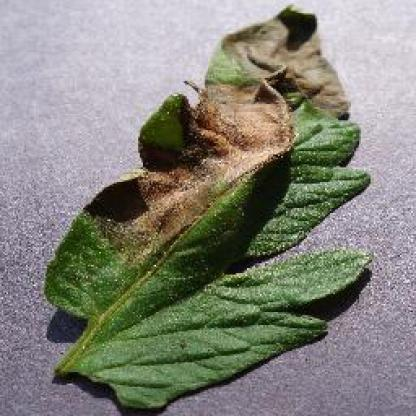bad leaf: (38, 2, 375, 413)
